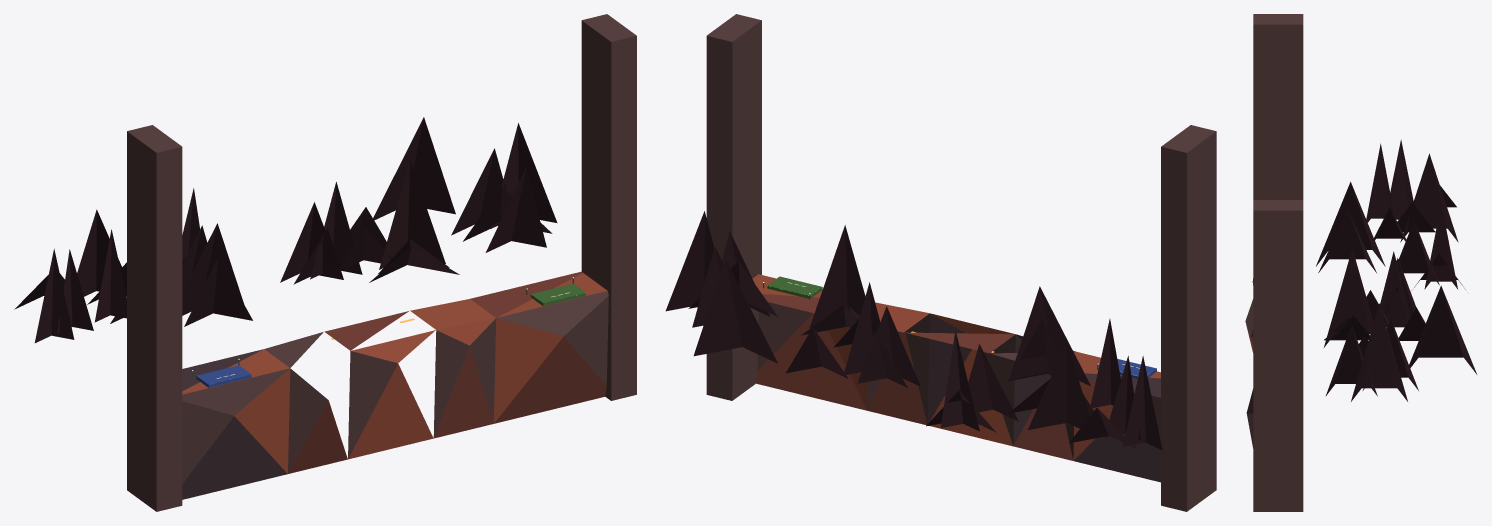
Rendered from 06-heavy.glb.
3 renders of one model, left to right at view 1: azimuth 30°, elevation 25°; view 2: azimuth 150°, elevation 25°; view 3: azimuth 270°, elevation 25°, orthographic. The views are drawn at different scales.
Visible parts, largest first — view 1: terrain_floor, terrain_wall_-1, terrain_wall_1, background_spire_10, background_spire_17, background_spire_11, background_spire_09, background_spire_07, background_spire_05, background_spire_18, background_spire_22, background_spire_24 (+11 smaller); view 2: terrain_floor, terrain_wall_-1, terrain_wall_1, background_spire_10, background_spire_22, background_spire_17, background_spire_18, background_spire_07, background_spire_03, background_spire_06, background_spire_05, background_spire_04 (+10 smaller); view 3: terrain_wall_1, terrain_wall_-1, background_spire_10, background_spire_07, background_spire_17, background_spire_22, background_spire_18, background_spire_24, background_spire_09, background_spire_06, background_spire_11, background_spire_16 (+10 smaller).
Boxes of the visible parts, box(x1,y1,x2,y2) form: terrain_floor: box(182, 271, 608, 499); terrain_wall_-1: box(127, 125, 182, 511); terrain_wall_1: box(581, 14, 636, 400); background_spire_10: box(373, 117, 455, 220); background_spire_17: box(379, 160, 445, 269); background_spire_11: box(485, 167, 546, 252); background_spire_09: box(184, 258, 252, 326); background_spire_07: box(490, 123, 557, 228); background_spire_05: box(34, 248, 74, 342); background_spire_18: box(182, 223, 243, 315); background_spire_22: box(77, 209, 126, 296); background_spire_24: box(310, 182, 362, 279); terrain_floor: box(752, 274, 1160, 482); terrain_wall_-1: box(1161, 125, 1216, 511); terrain_wall_1: box(706, 14, 761, 400); background_spire_10: box(693, 259, 777, 363); background_spire_22: box(1028, 341, 1089, 429); background_spire_17: box(809, 225, 865, 328); background_spire_18: box(1009, 286, 1090, 386); background_spire_07: box(665, 211, 714, 311); background_spire_03: box(858, 306, 920, 386); background_spire_06: box(940, 330, 979, 431); background_spire_05: box(1123, 356, 1162, 450); background_spire_04: box(968, 344, 1018, 421); terrain_wall_1: box(1253, 200, 1303, 511); terrain_wall_-1: box(1253, 14, 1303, 199); background_spire_10: box(1409, 285, 1476, 374); background_spire_07: box(1351, 303, 1407, 401); background_spire_17: box(1324, 249, 1373, 347); background_spire_22: box(1400, 153, 1458, 242); background_spire_18: box(1316, 181, 1385, 266); background_spire_24: box(1380, 251, 1410, 327); background_spire_09: box(1318, 209, 1376, 272); background_spire_06: box(1424, 204, 1457, 289); background_spire_11: box(1325, 325, 1377, 396); background_spire_16: box(1366, 143, 1394, 222).
Size of what is drawn, in the model's own units: 59.24 by 40 by 27.94.
